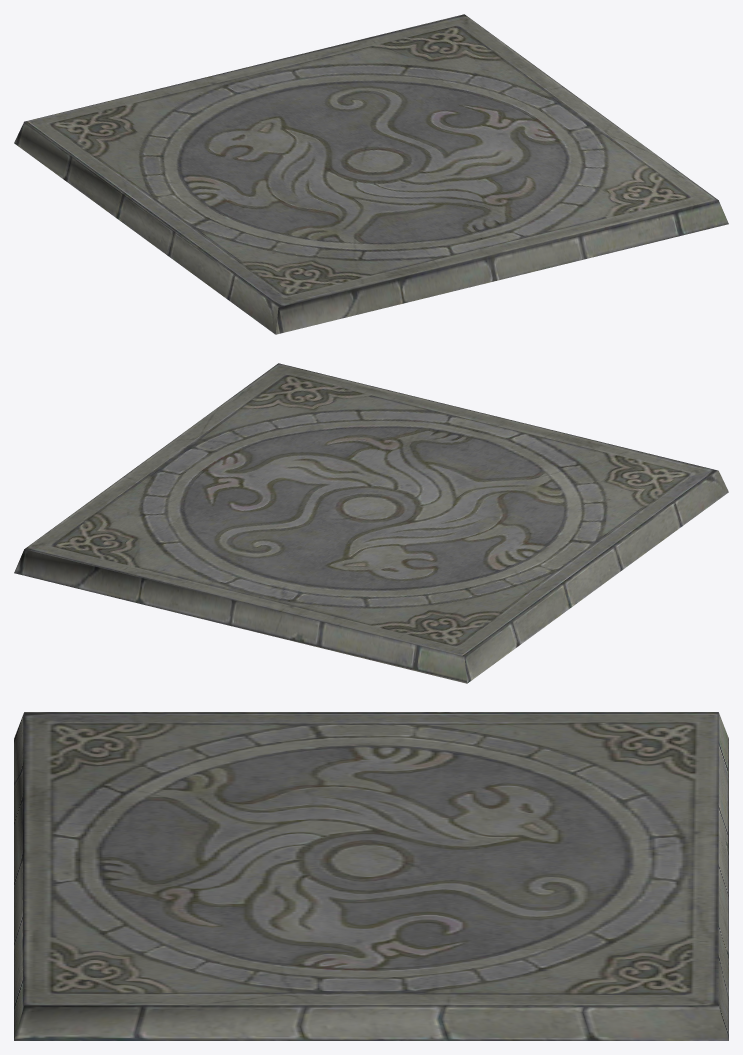
Rendered from City_bujian_01_2.fbx.
3 views of the same model, one above another, from view 1: azimuth 30°, elevation 25°; view 2: azimuth 150°, elevation 25°; view 3: azimuth 270°, elevation 25° (orthographic). The views are drawn at different scales.
Parts seen in each view (by area): view 1: polySurface4020; view 2: polySurface4020; view 3: polySurface4020.
Boxes of the visible parts, box(x1,y1,x2,y2) form: polySurface4020: box(14, 14, 728, 334); polySurface4020: box(14, 363, 728, 683); polySurface4020: box(14, 712, 728, 1040).
Size of the model in its own units: 1.94 by 0.0932 by 1.94.
1 material, 1 textured.
